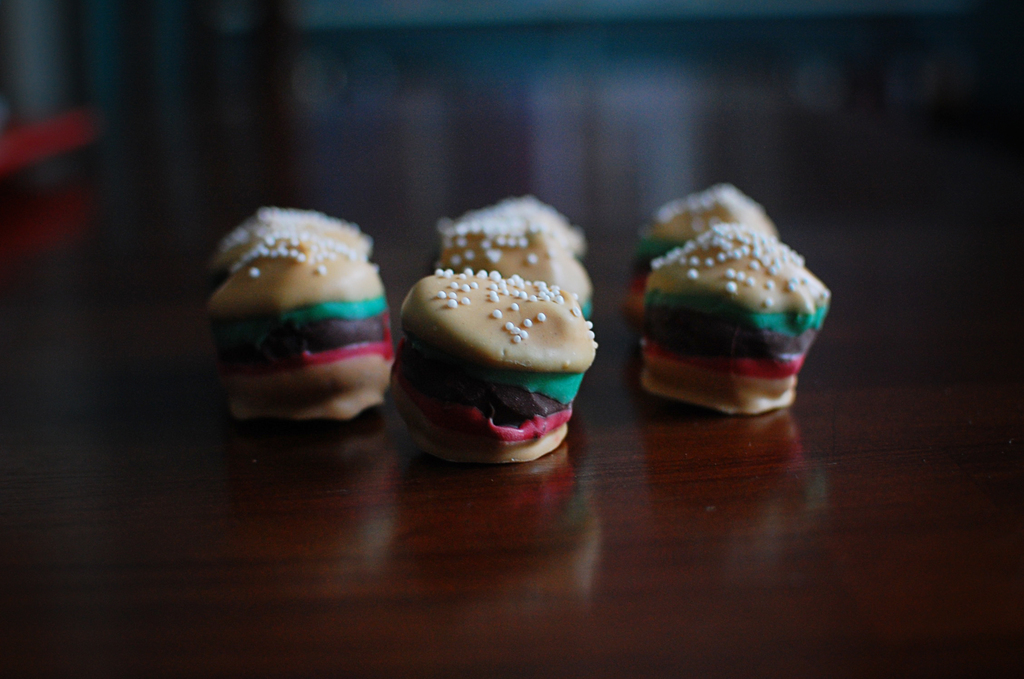Hamburger: (387, 267, 595, 461), (643, 223, 828, 418), (204, 233, 393, 418), (627, 187, 773, 320), (440, 197, 588, 312), (209, 212, 373, 283)
